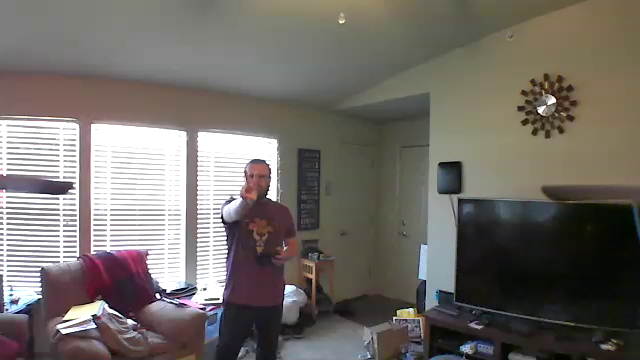peace: (238, 165, 262, 204)
